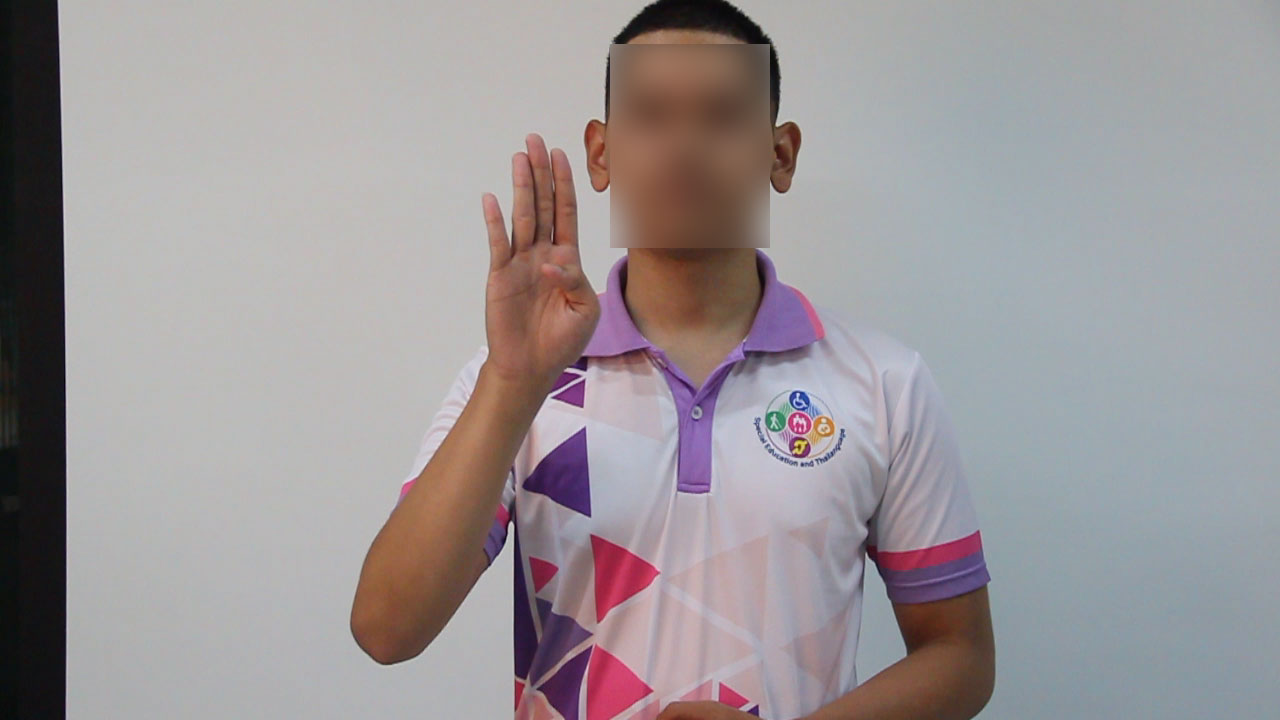bor: (469, 121, 605, 384)
